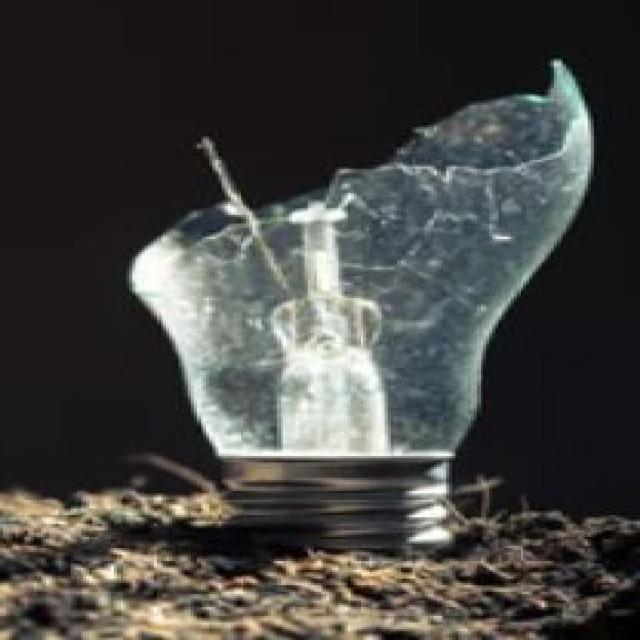electronic: (123, 57, 594, 550)
